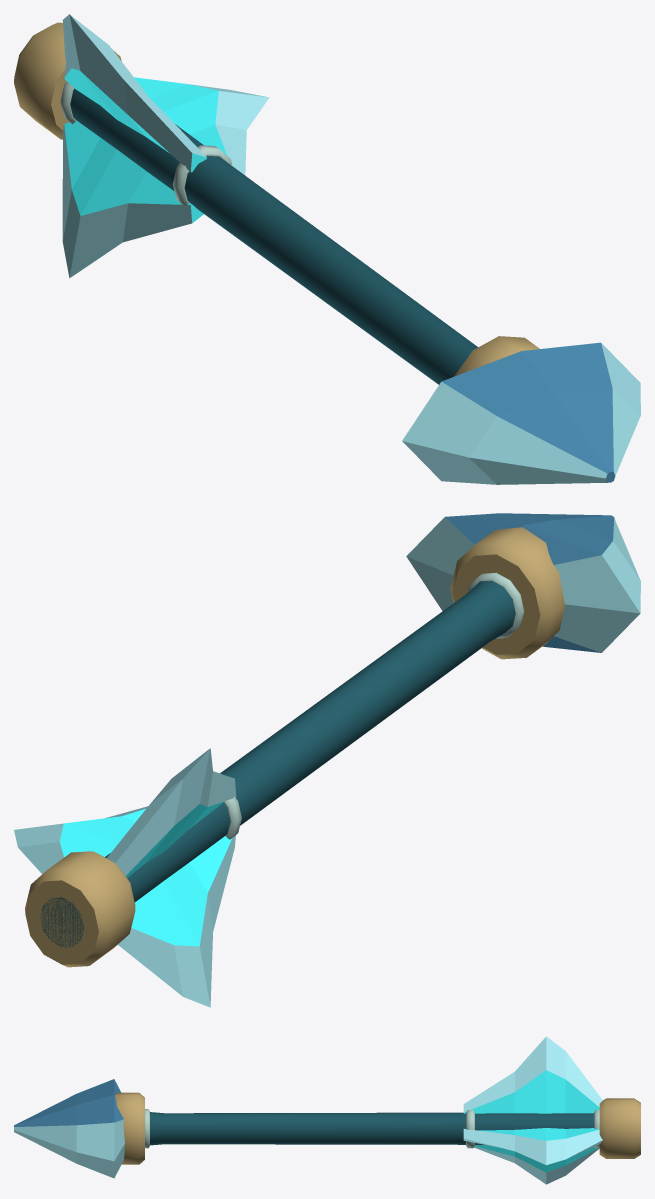
File: arrow-rare.glb
The picture shows the model from 3 angles, top to bottom: view 1: azimuth 30°, elevation 25°; view 2: azimuth 150°, elevation 25°; view 3: azimuth 270°, elevation 25°; orthographic projection. The views are drawn at different scales.
Parts seen in each view (by area): view 1: Body; view 2: Body; view 3: Body.
Part boxes in pixels (x1,y1,x2,y2): Body: (14, 14, 640, 484); Body: (14, 513, 640, 1007); Body: (14, 1036, 640, 1184).
Size of the model in its own units: 0.119 by 0.119 by 0.4559.
